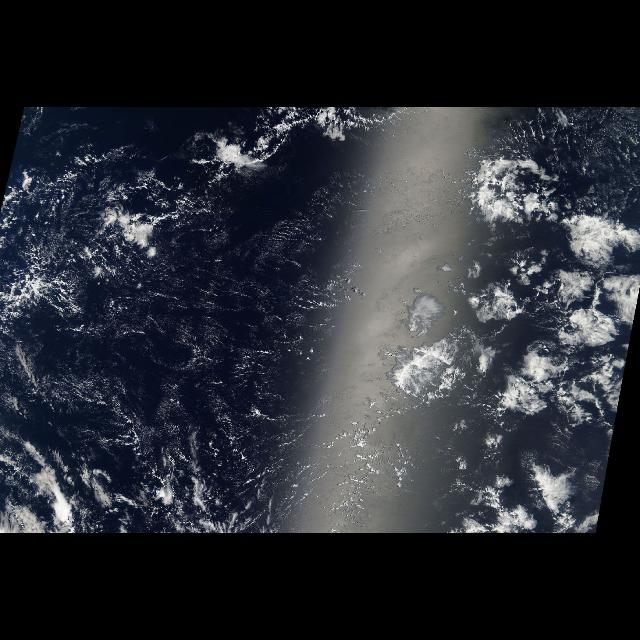Sugar: (150, 178, 402, 424), (558, 115, 638, 212)
